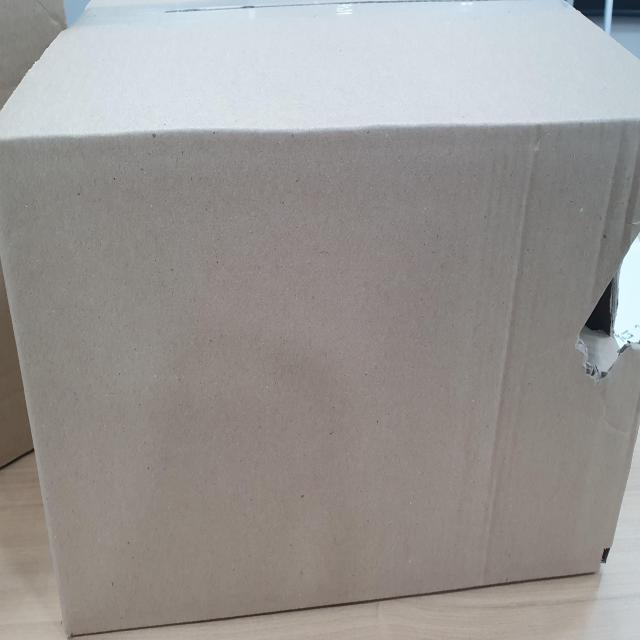damaged: (588, 203, 640, 348)
